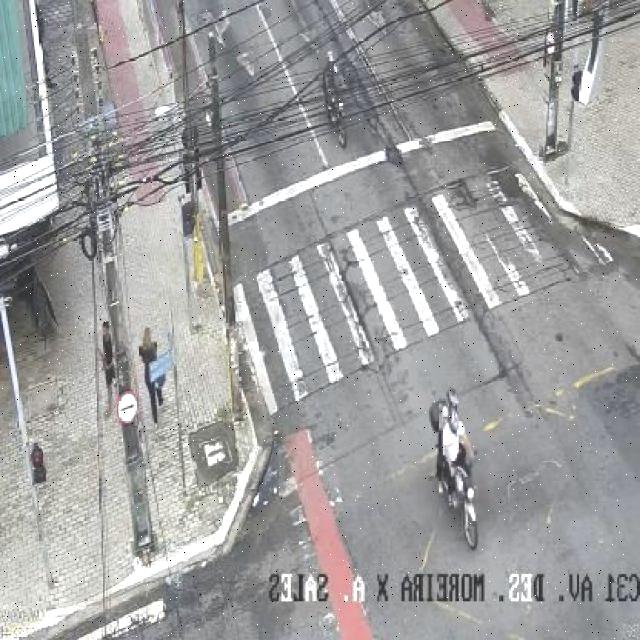Cycle: (421, 387, 496, 551), (305, 44, 371, 154)
